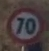limite 70: (6, 7, 43, 44)
